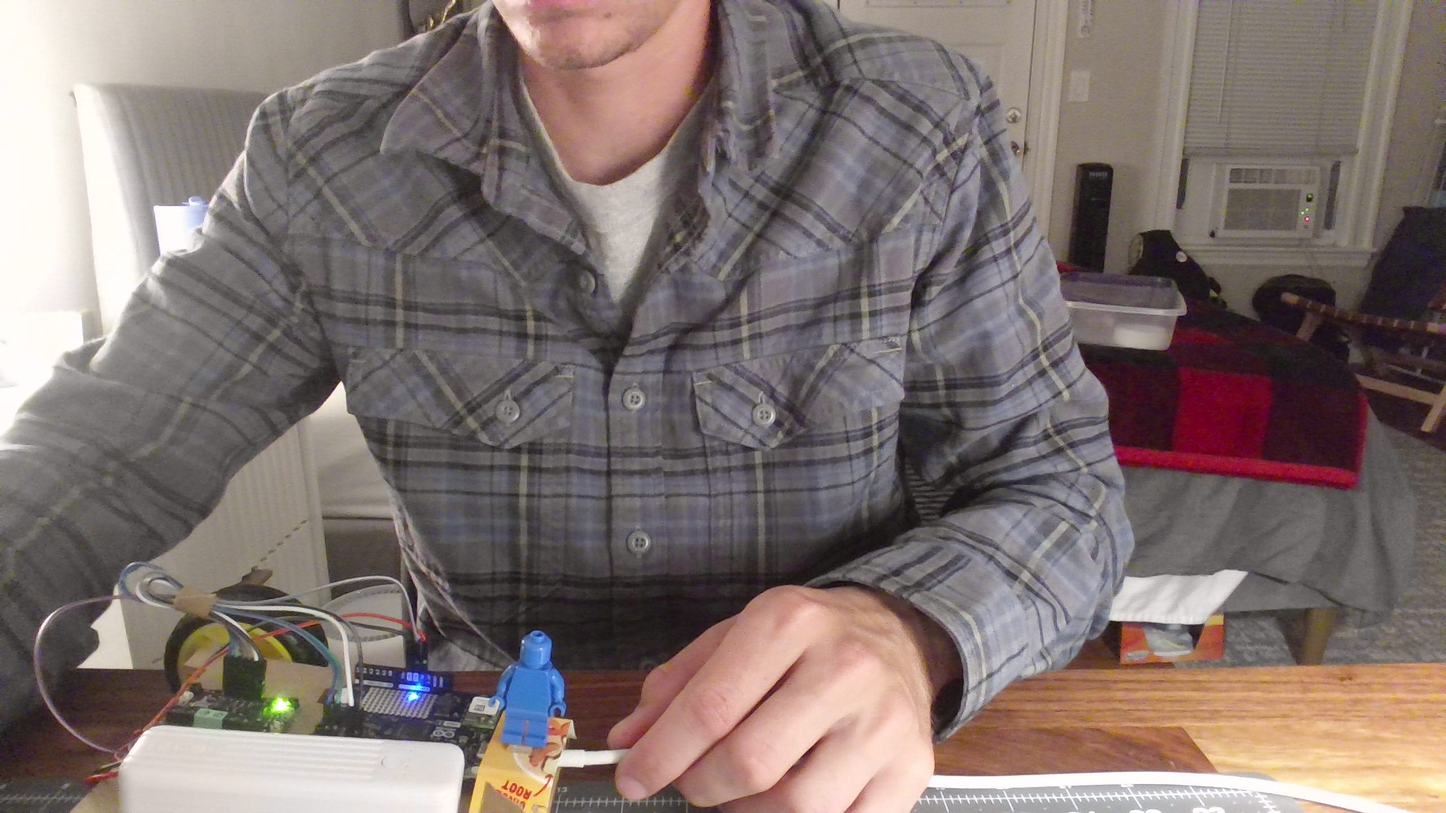Training-dataset-2: (484, 627, 594, 774)
